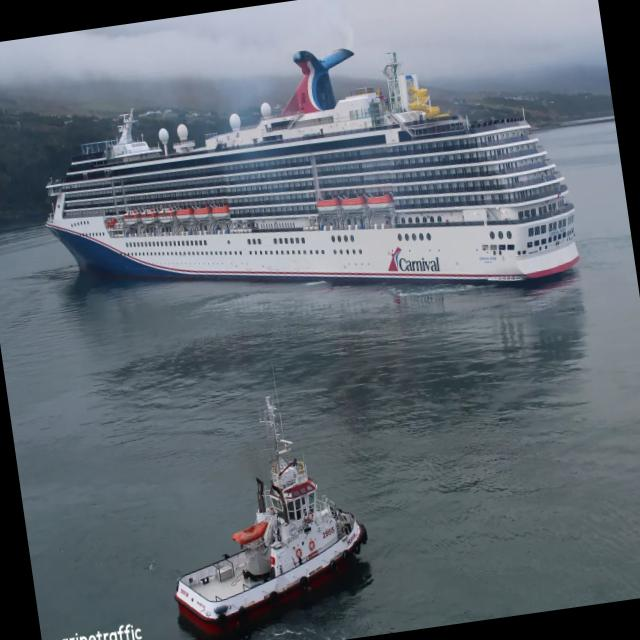Cruise: (45, 48, 582, 281)
Tug: (176, 392, 366, 639)
